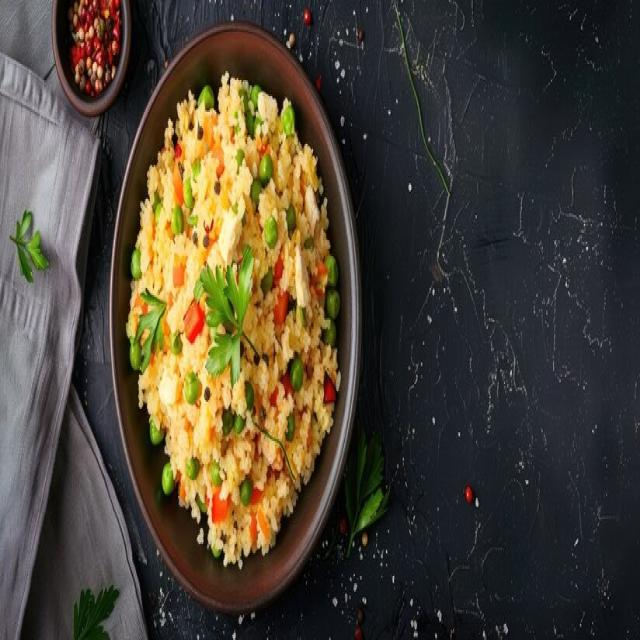UPMA: (126, 73, 339, 567)
